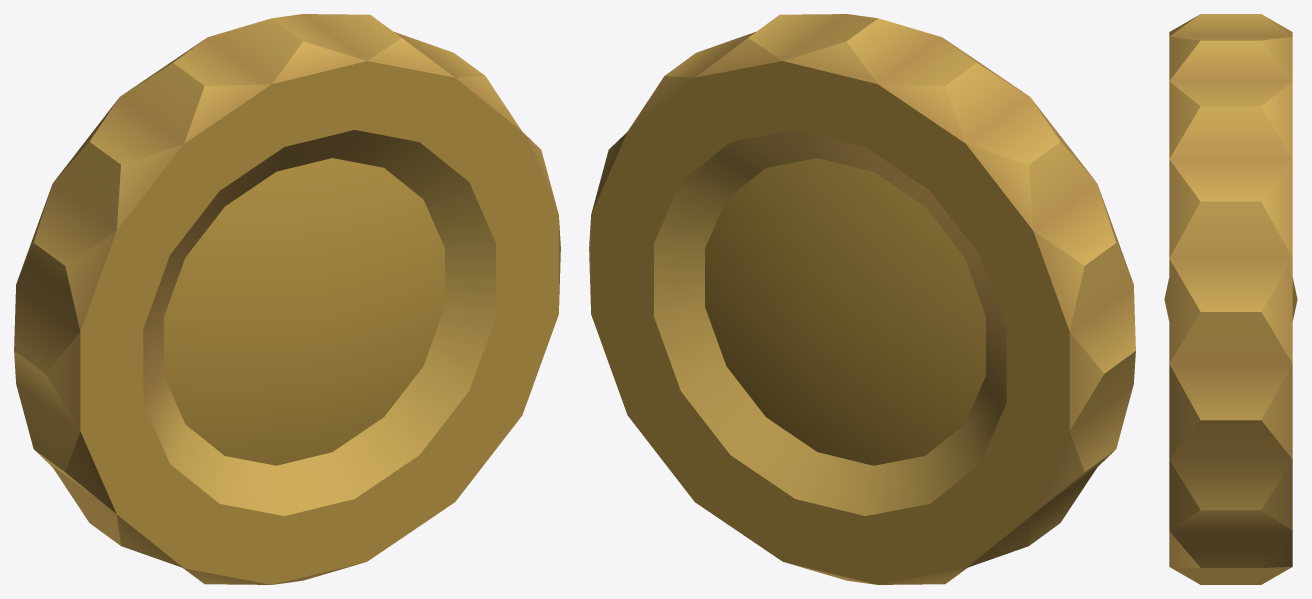
Rendered from coin.fbx.
The picture shows the model from 3 angles, left to right: view 1: azimuth 30°, elevation 25°; view 2: azimuth 150°, elevation 25°; view 3: azimuth 270°, elevation 25°; orthographic projection. The views are drawn at different scales.
Parts seen in each view (by area): view 1: coin; view 2: coin; view 3: coin.
Boxes of the visible parts, bbox=[...] form: coin: bbox=[14, 14, 560, 584]; coin: bbox=[589, 14, 1135, 584]; coin: bbox=[1164, 14, 1297, 584].
Bounding box in the file's own units: 200 × 200 × 46.6.
